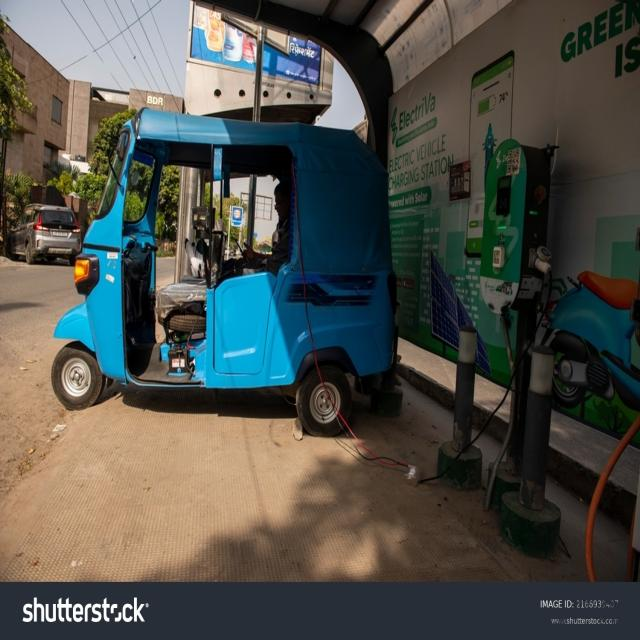autorickshaw: (51, 109, 396, 436)
car: (5, 204, 81, 264)
